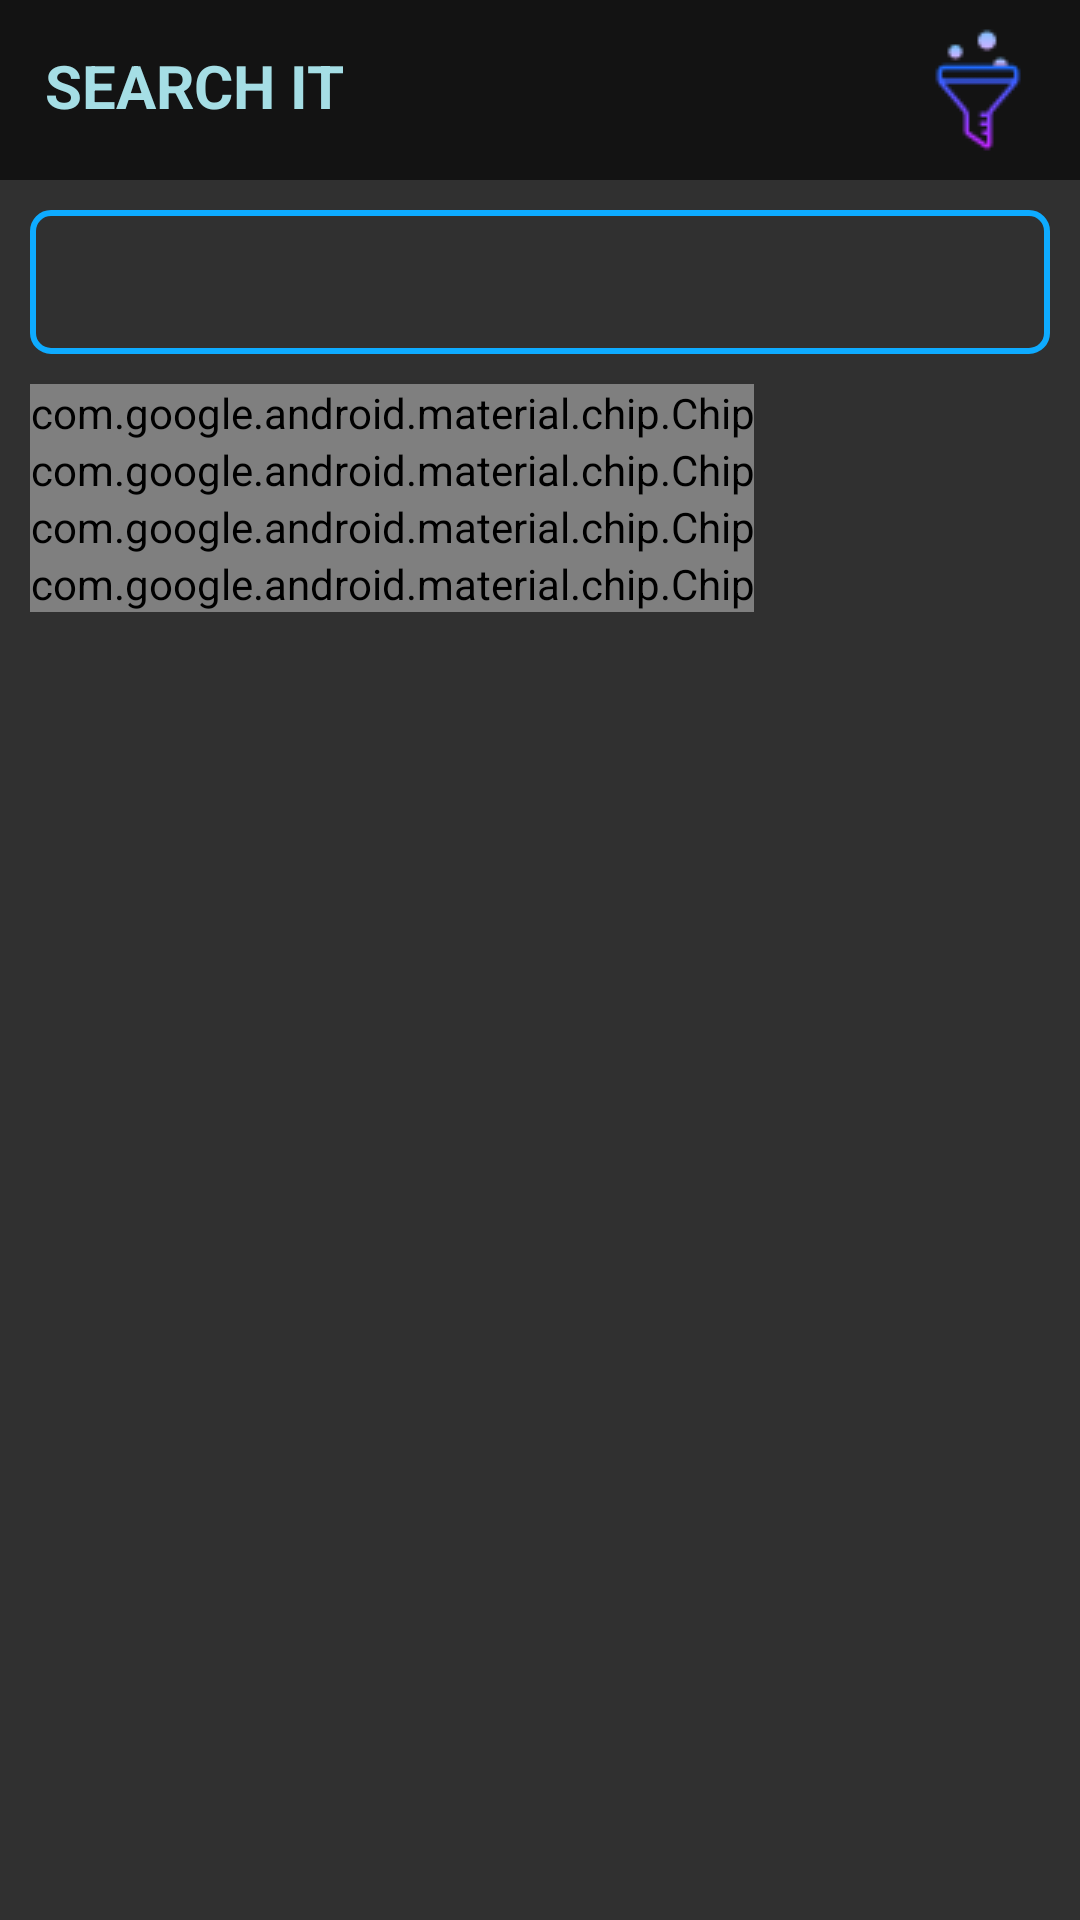

Named icons in this screenshot (1080px×1920px) and their centers, [x,y]:
filter: [978,90]
